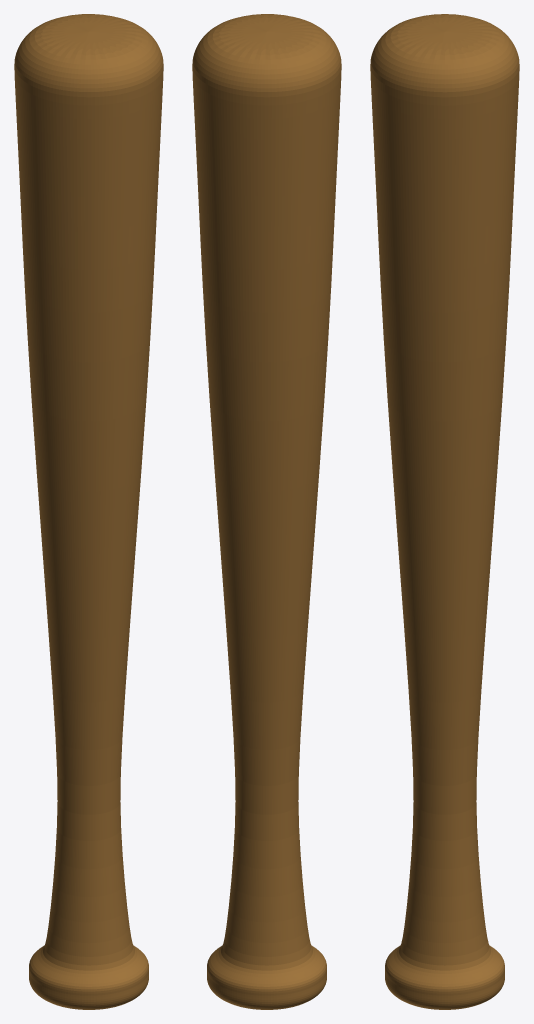
File: baseballbat.fbx
3 views of the same model, side by side, from view 1: azimuth 30°, elevation 25°; view 2: azimuth 150°, elevation 25°; view 3: azimuth 270°, elevation 25° (orthographic).
Visible parts, largest first — view 1: Cylinder; view 2: Cylinder; view 3: Cylinder.
Boxes of the visible parts, x1,y1,x2,y2 form: Cylinder: (14,14,163,1009); Cylinder: (192,14,341,1009); Cylinder: (370,14,519,1009).
Bounding box in the file's own units: 315 × 2238 × 315.
